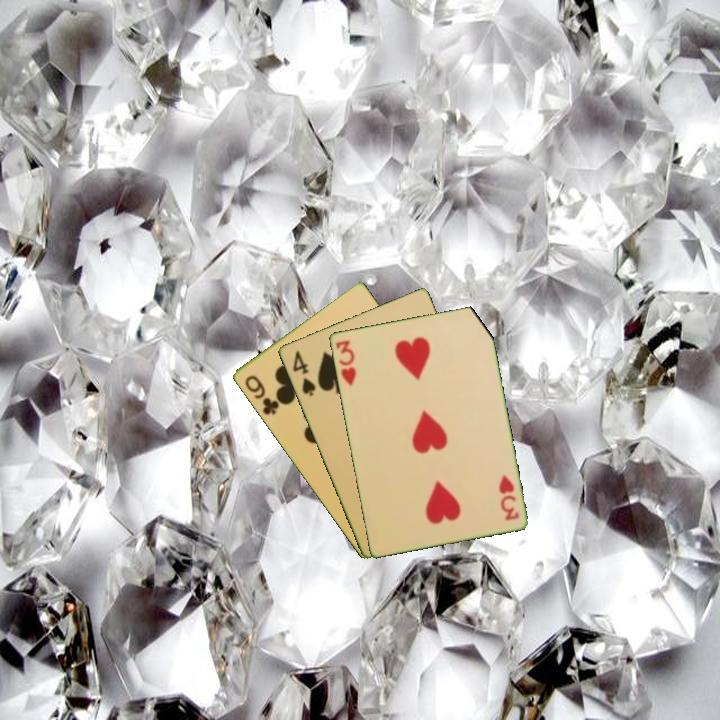3h: (332, 336, 359, 388), (495, 471, 522, 523)
4s: (289, 347, 318, 399)
9c: (241, 371, 282, 418)
